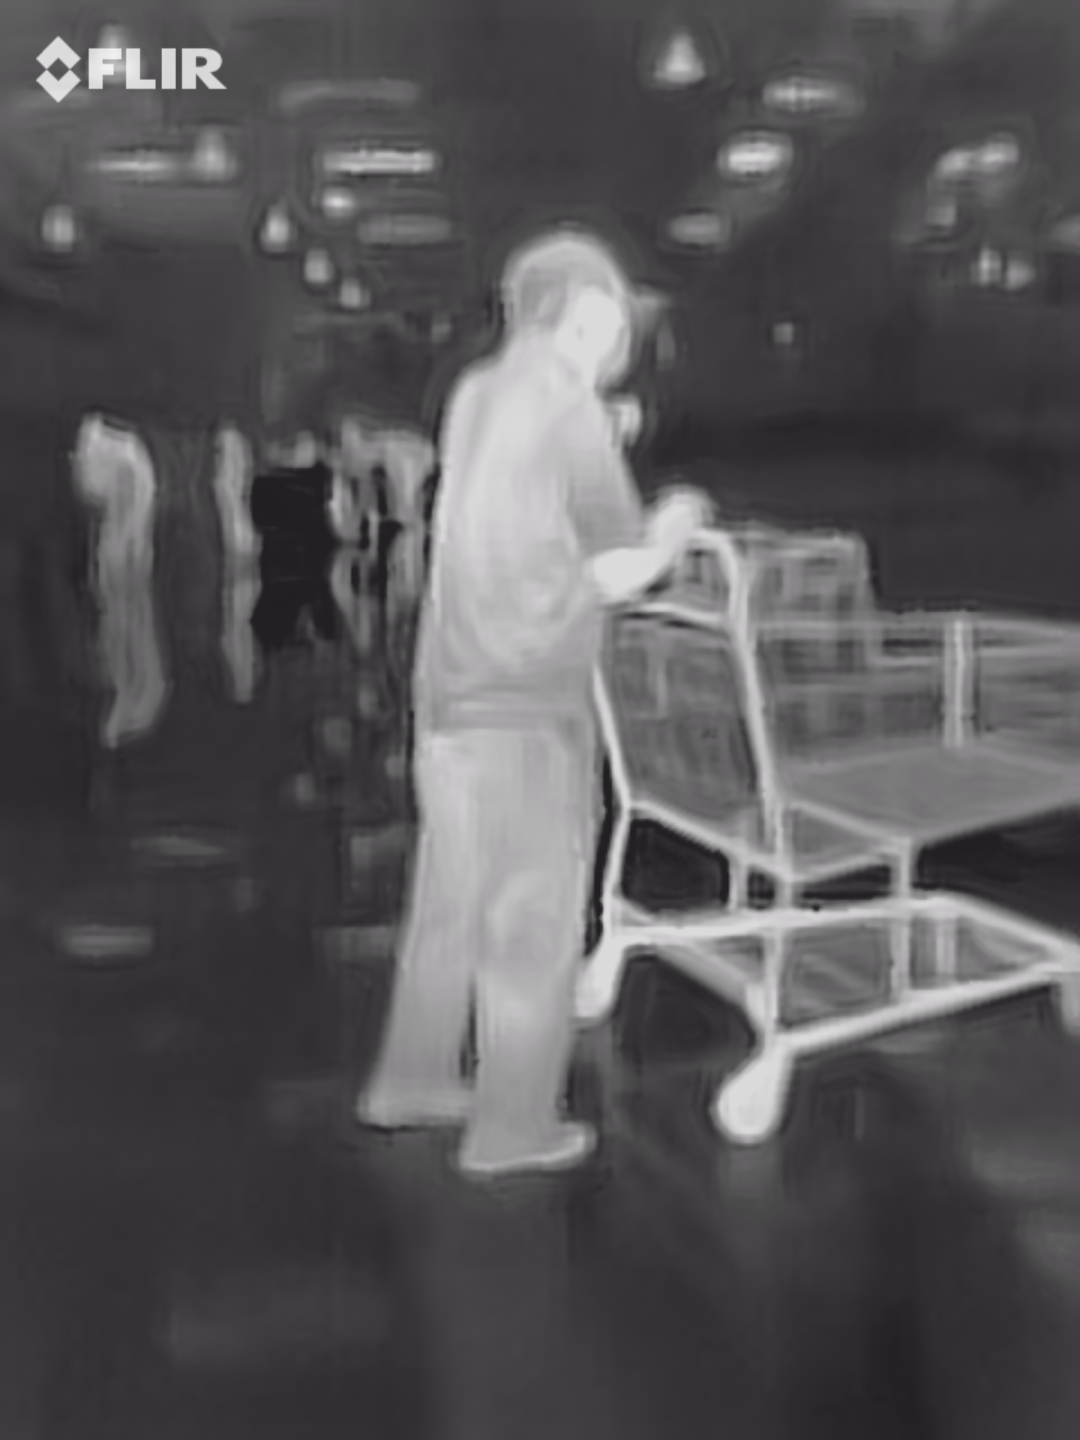head: (502, 228, 629, 379)
